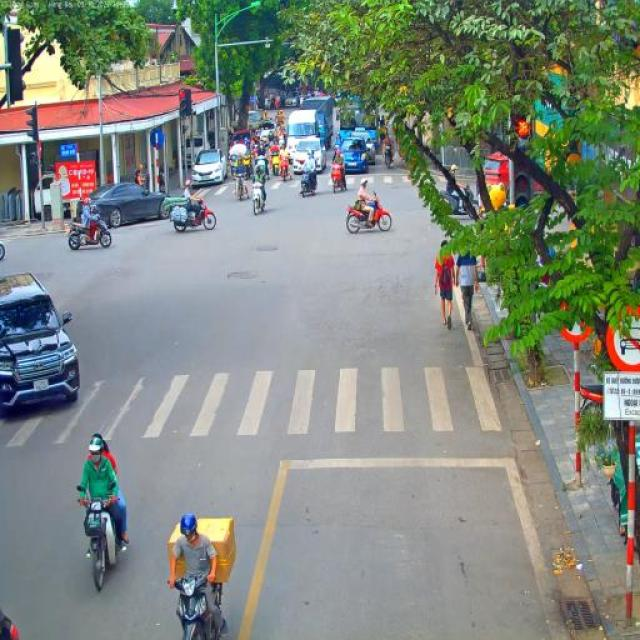bus: (482, 67, 582, 212)
car: (0, 271, 81, 411), (86, 182, 173, 228), (288, 136, 328, 174), (191, 148, 228, 187), (340, 136, 369, 176), (356, 132, 376, 166), (254, 120, 278, 142), (232, 130, 252, 146), (285, 91, 300, 107), (248, 110, 262, 122)
motorcycle: (76, 481, 128, 592), (166, 571, 224, 640), (345, 190, 393, 234), (66, 212, 113, 250), (172, 197, 217, 232), (440, 183, 476, 219), (578, 385, 602, 417), (251, 180, 267, 216), (299, 166, 317, 198), (331, 162, 347, 194), (233, 174, 249, 201), (278, 156, 291, 182), (254, 155, 267, 179), (382, 145, 392, 169), (270, 152, 280, 176), (243, 154, 252, 178), (265, 101, 270, 111), (275, 100, 280, 110), (300, 99, 304, 109)
truck: (284, 109, 326, 155), (300, 96, 334, 152), (333, 106, 378, 144)
